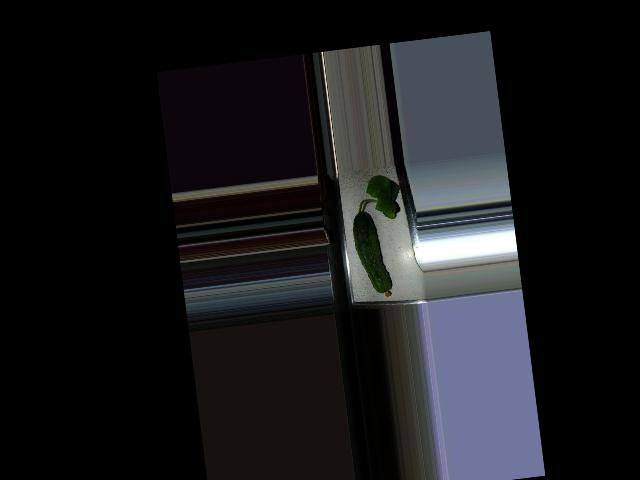cucumber: (350, 208, 393, 300)
